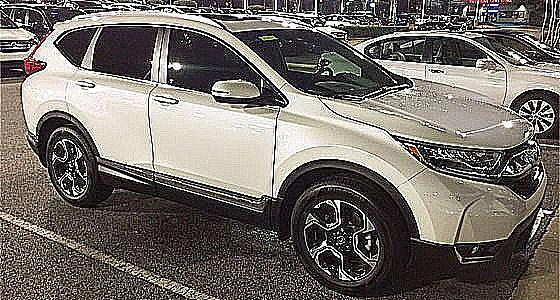Car hood: (313, 73, 535, 152)
Driver-s door - -F-R-: (146, 11, 279, 231)
Fender - -F-R-: (272, 137, 407, 209)
Fender - -R-R-: (61, 6, 164, 207), (33, 95, 92, 134)
Front bumper: (393, 166, 560, 272)
Headlight - -R-: (397, 136, 506, 183)
Rear bumper: (16, 77, 50, 171)
Rear light - -R-: (23, 56, 51, 79)
Side bumper - -R-: (86, 158, 274, 231)
Side mirror - -R-: (212, 79, 271, 106)
